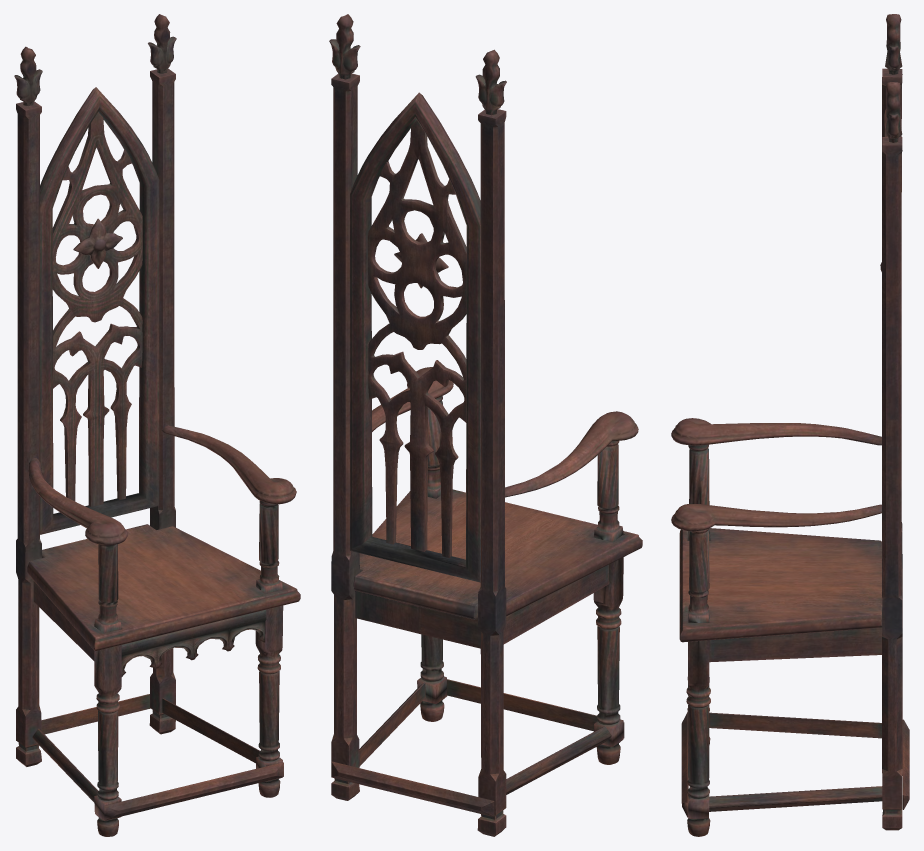
The model's file is WoodenChair_01.glb.
3 renders of one model, left to right at view 1: azimuth 30°, elevation 25°; view 2: azimuth 150°, elevation 25°; view 3: azimuth 270°, elevation 25°, orthographic. The views are drawn at different scales.
Visible parts, largest first — view 1: WoodenChair_01; view 2: WoodenChair_01; view 3: WoodenChair_01.
Part boxes in pixels (x1,y1,x2,y2): WoodenChair_01: (14,14,300,836); WoodenChair_01: (329,14,642,836); WoodenChair_01: (671,14,909,836).
Size of the model in its own units: 0.6878 by 2.27 by 0.6584.
1 material, 1 textured.
